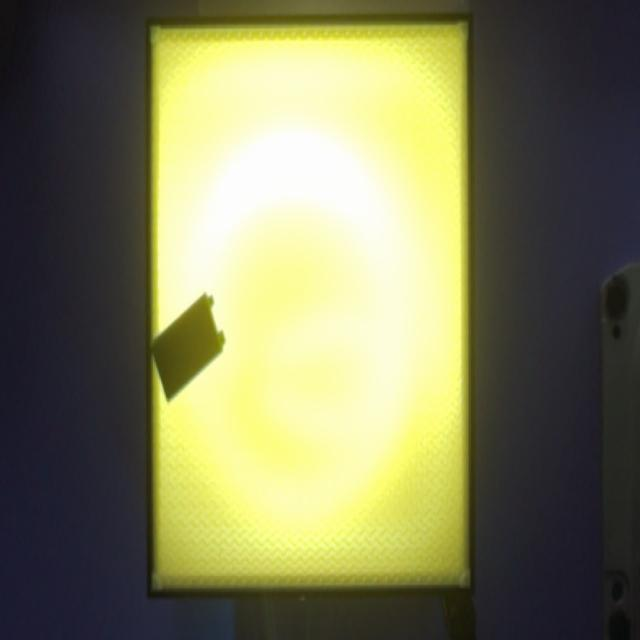bateria: (150, 290, 226, 400)
mesa: (146, 13, 474, 600)
